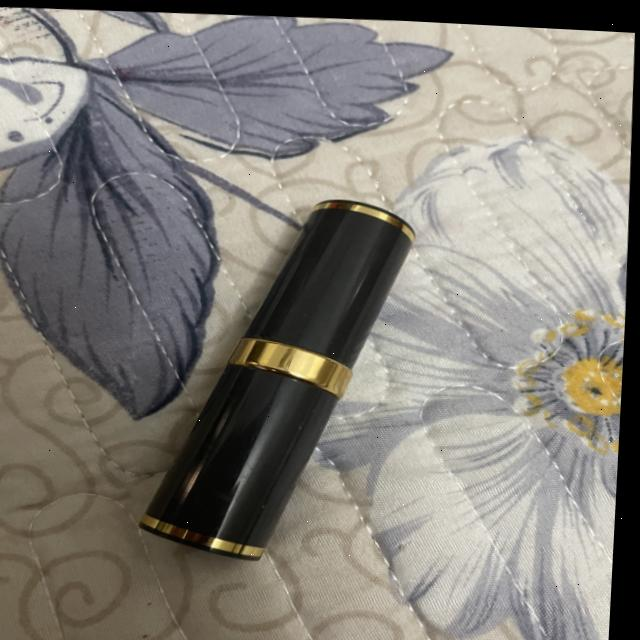lip stick: (124, 169, 443, 575)
